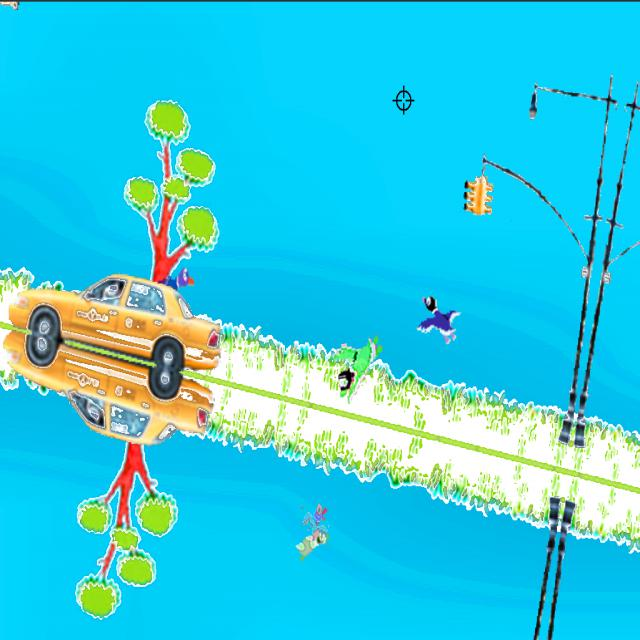duck: (329, 336, 387, 403), (410, 286, 466, 344), (295, 527, 332, 564), (157, 268, 195, 294), (294, 506, 332, 528)
